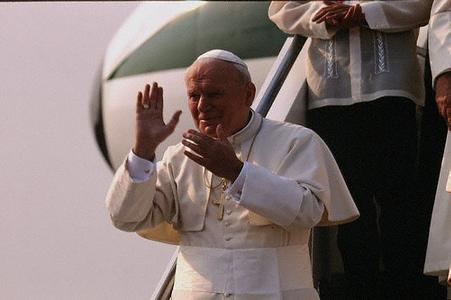person: (104, 50, 363, 300)
